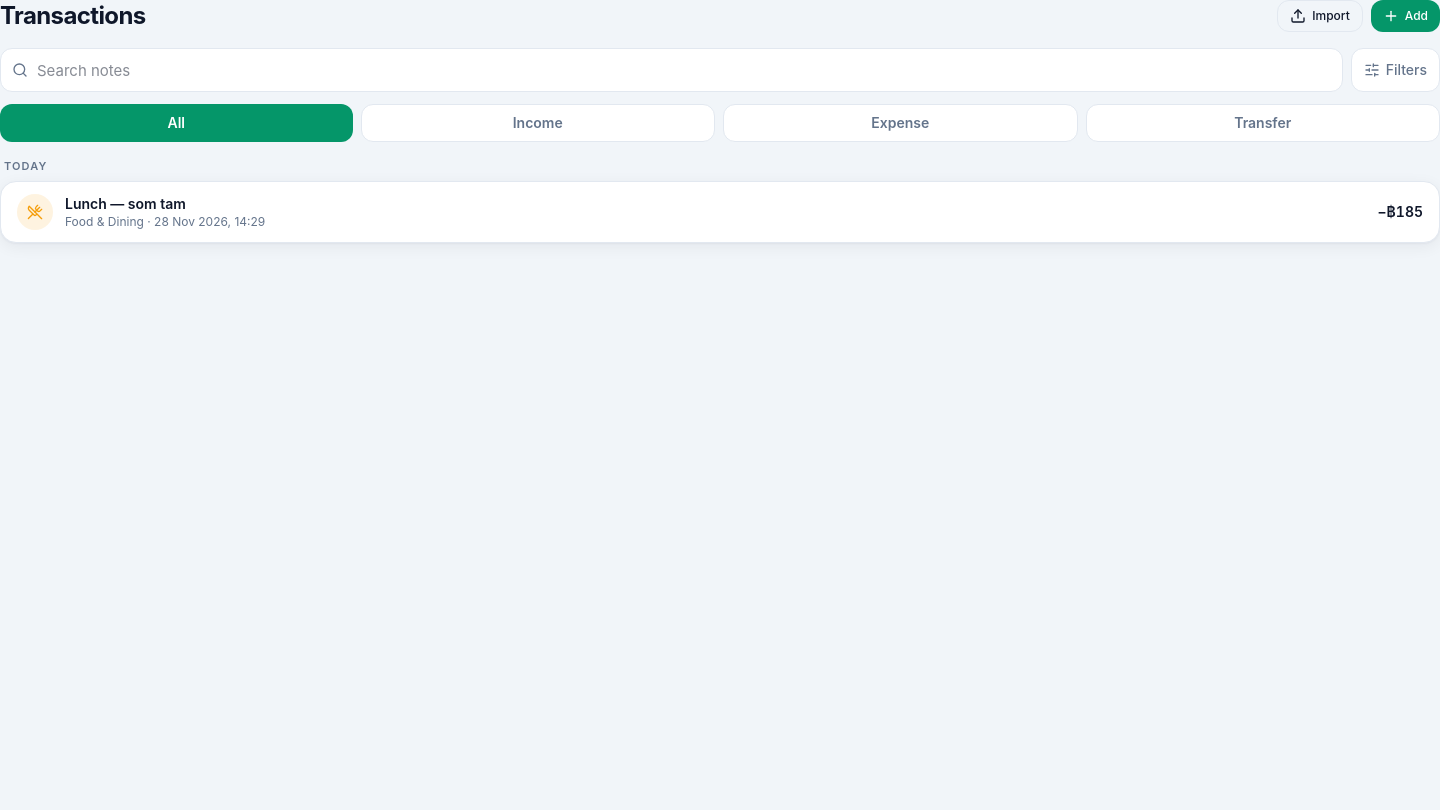
Scenario: Transactions page › edits a transaction by clicking its row
The image size is (1440, 810).
Click the button "Lunch — som tam Food & Dining · 28 Nov 2026, 14:29 −฿185".
click(35, 212)  # box [17,182,1423,242]
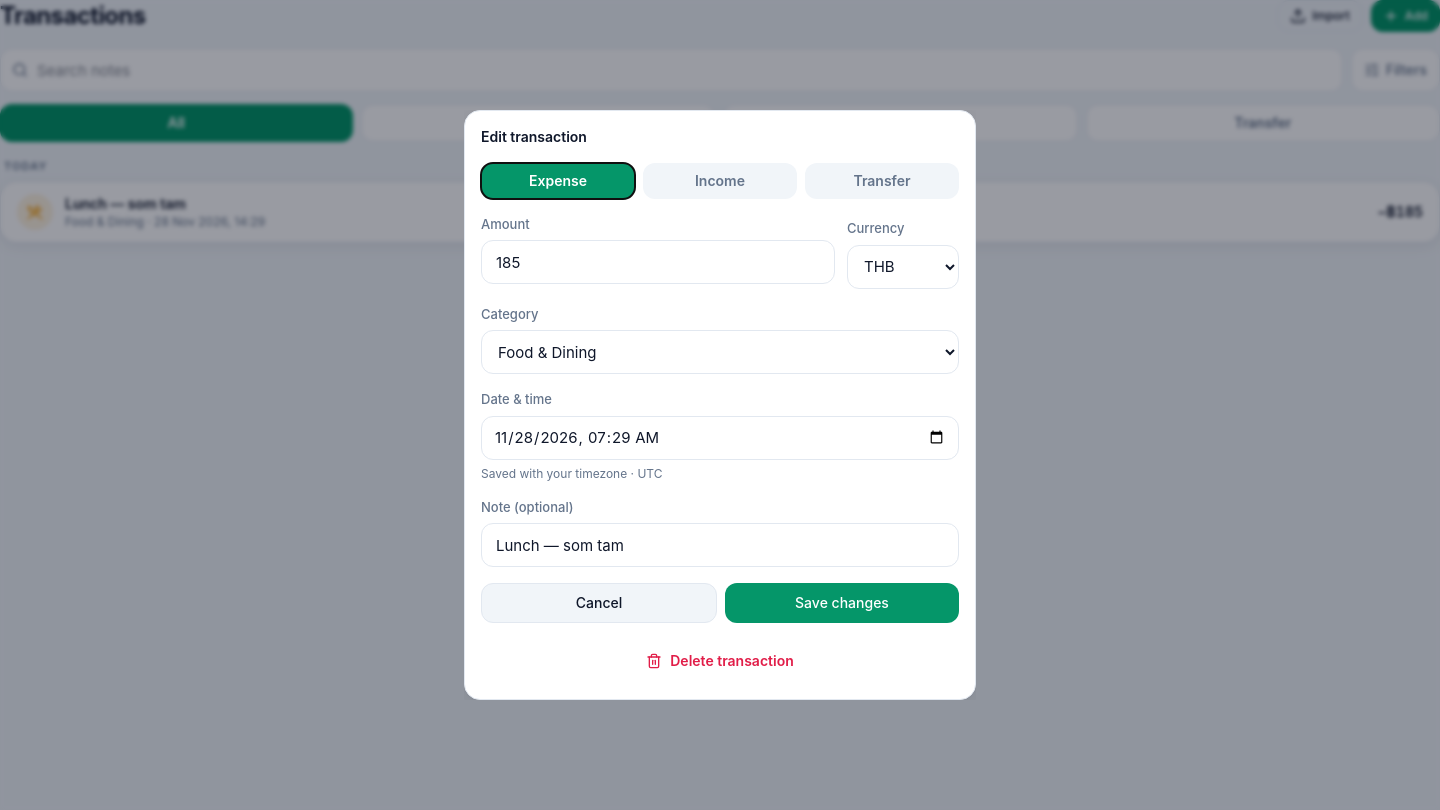
Check: the text "Edit transaction" is shown, box [481,128,587,145]
Click the button "Save changes".
click(842, 603)  # box [725,583,959,623]
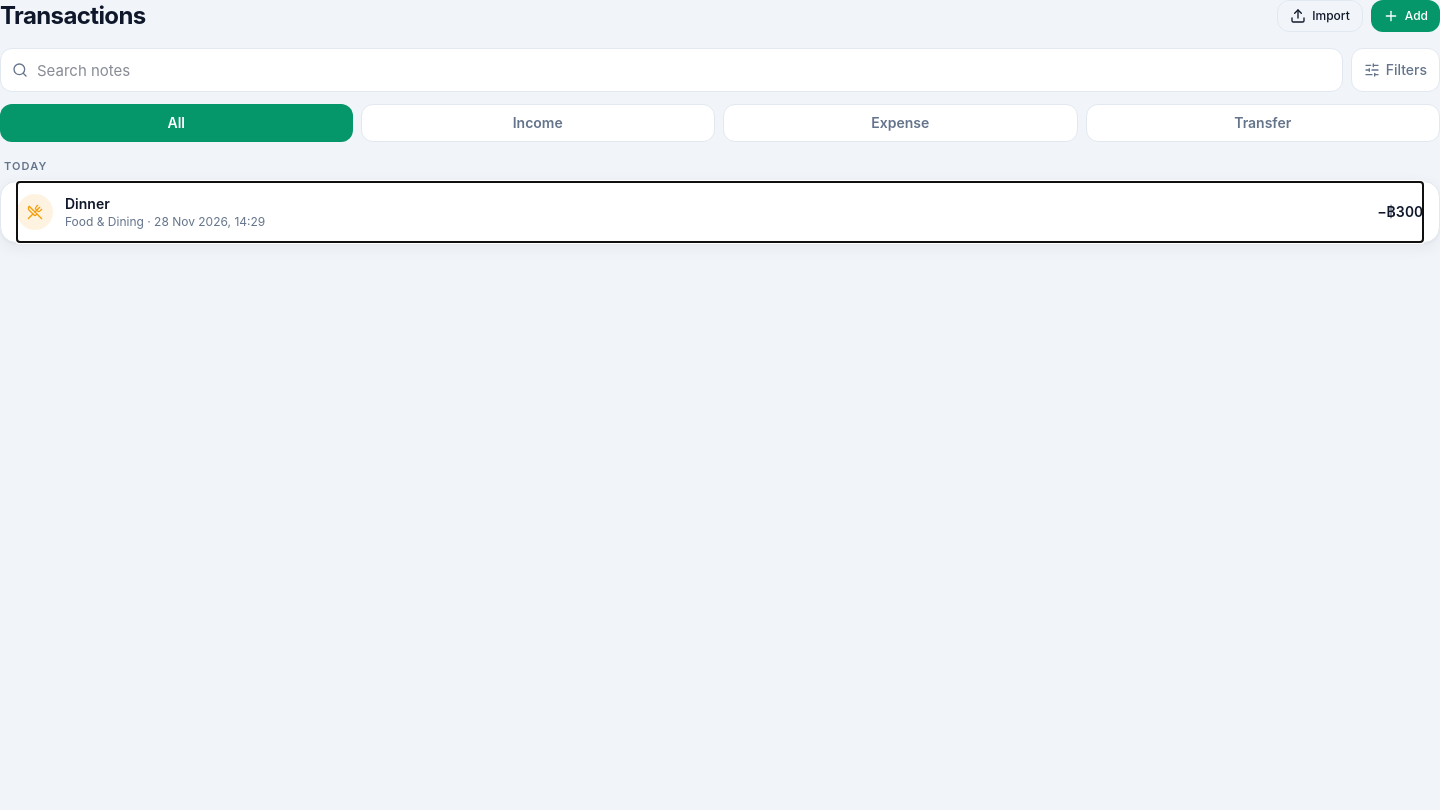
Check: the text "Dinner" is shown, box [65,194,110,214]
